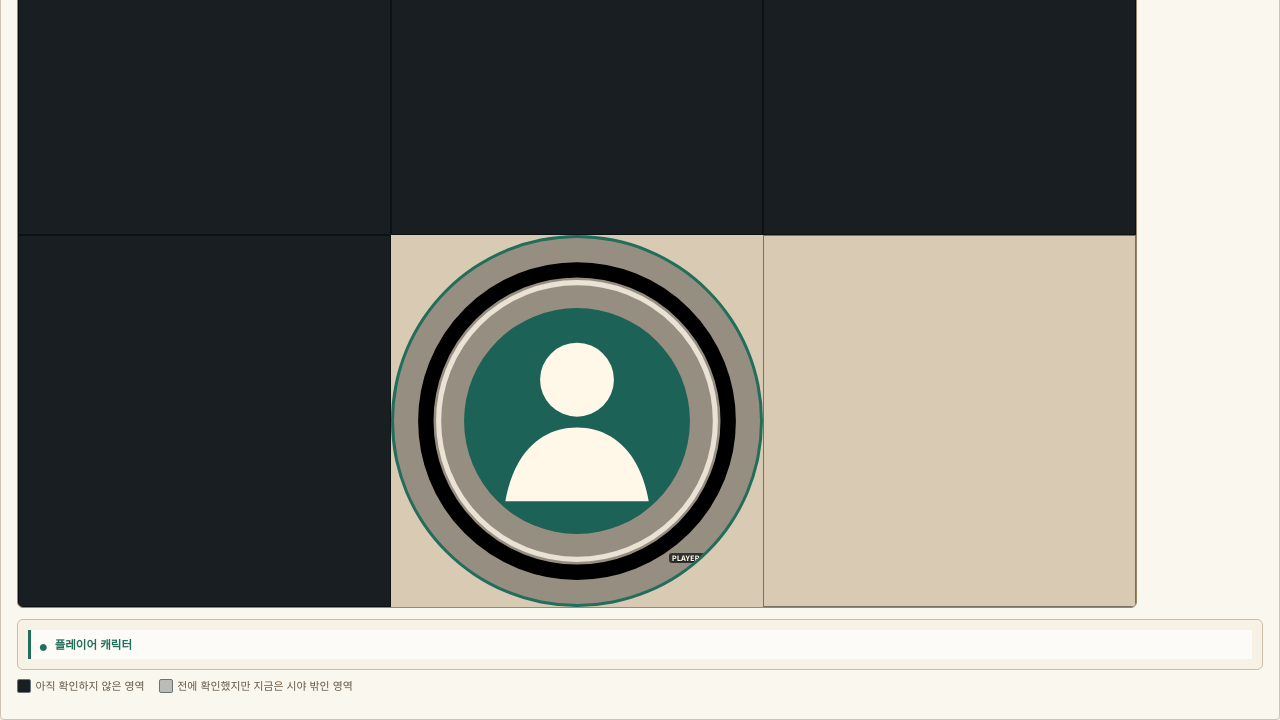
Test: resumes the adventure turn after a successful player roll and uses its typed result
(page scrolled)
Click the button "PLAYER (1,1)" at (577, 421), box [391,235,763,607]
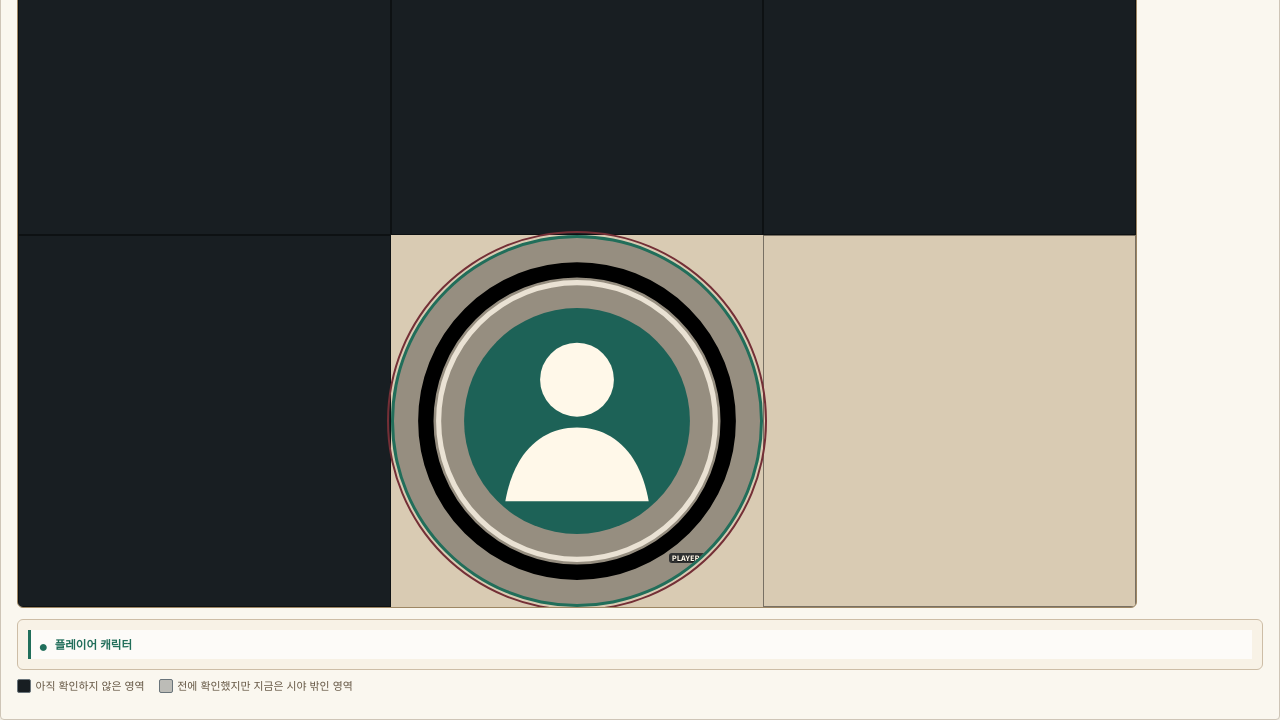
Click the button named "격자 2,1" at (950, 421), box [763,235,1136,607]
(page scrolled)
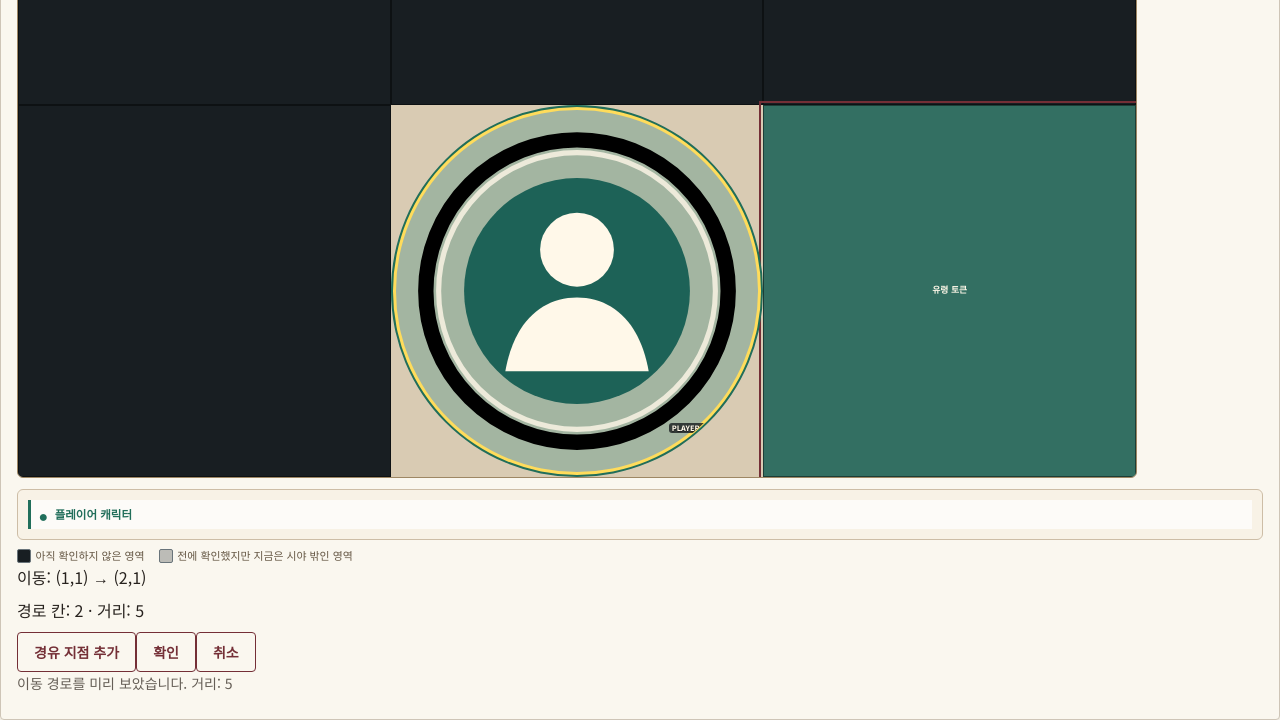
Click the button "확인" at (166, 652), box [136,632,196,672]
(page scrolled)
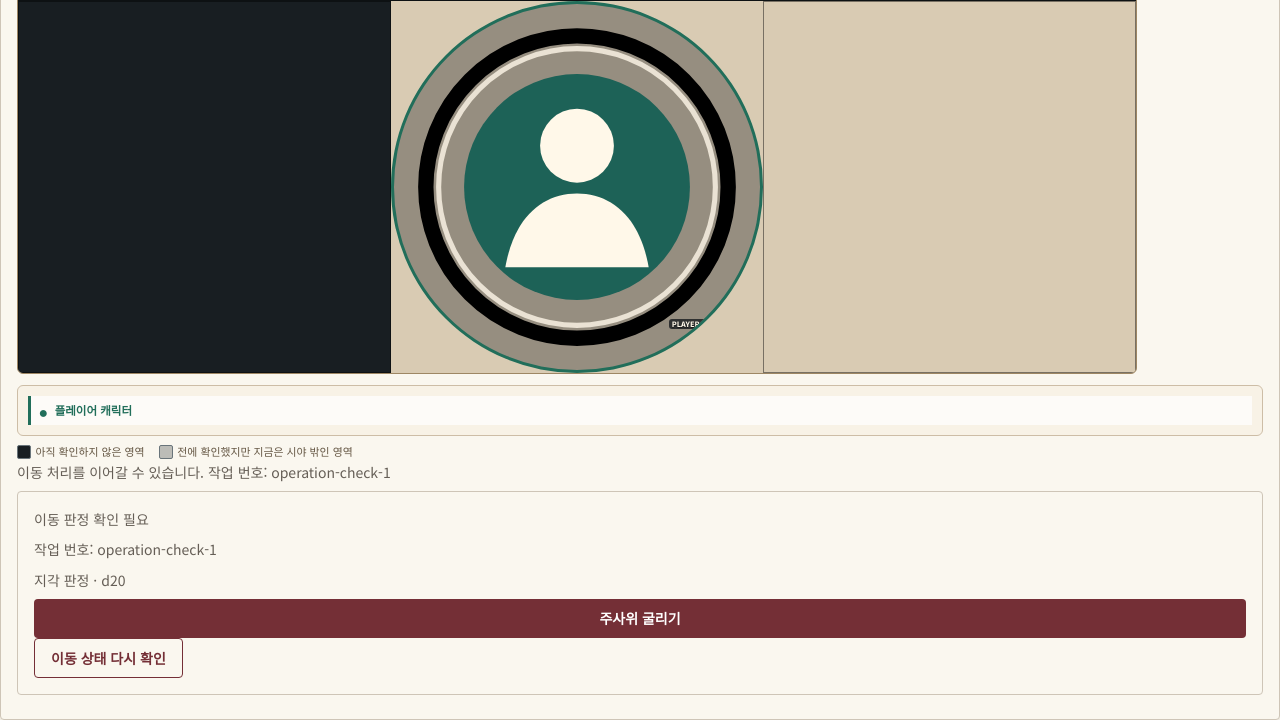
Click the button "주사위 굴리기" at (640, 618), box [34,599,1246,638]
(page scrolled)
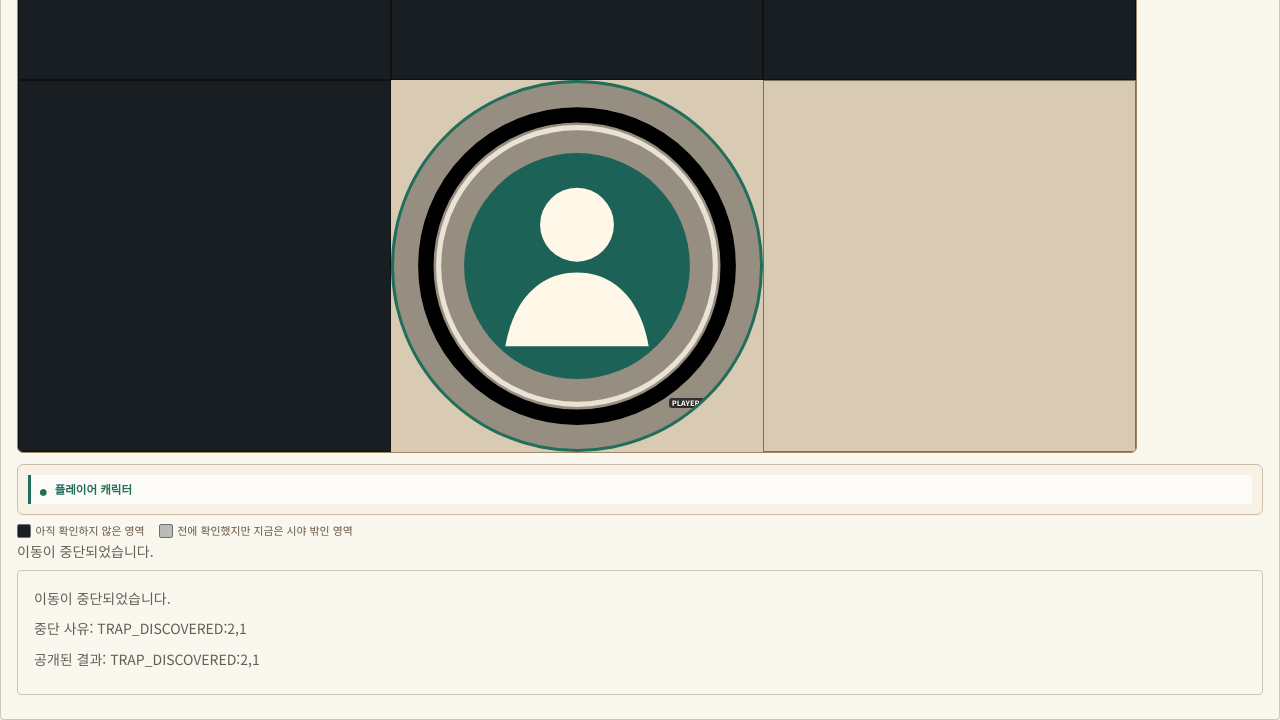
Result: the text "이동이 중단되었습니다." is shown at [17,541,154,561]
Result: the text "공개된 결과: TRAP_DISCOVERED:2,1" is shown at [34,649,260,669]
